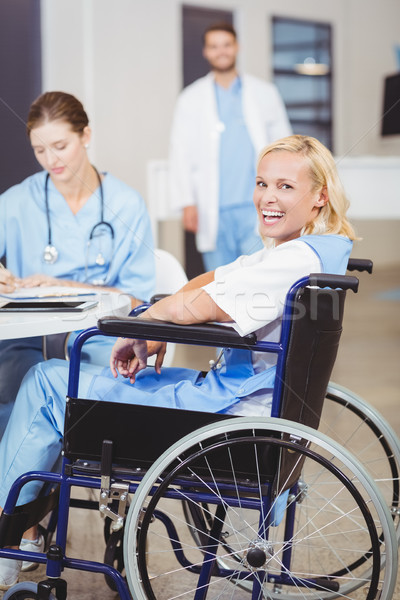wheelchair: (4, 133, 400, 600)
